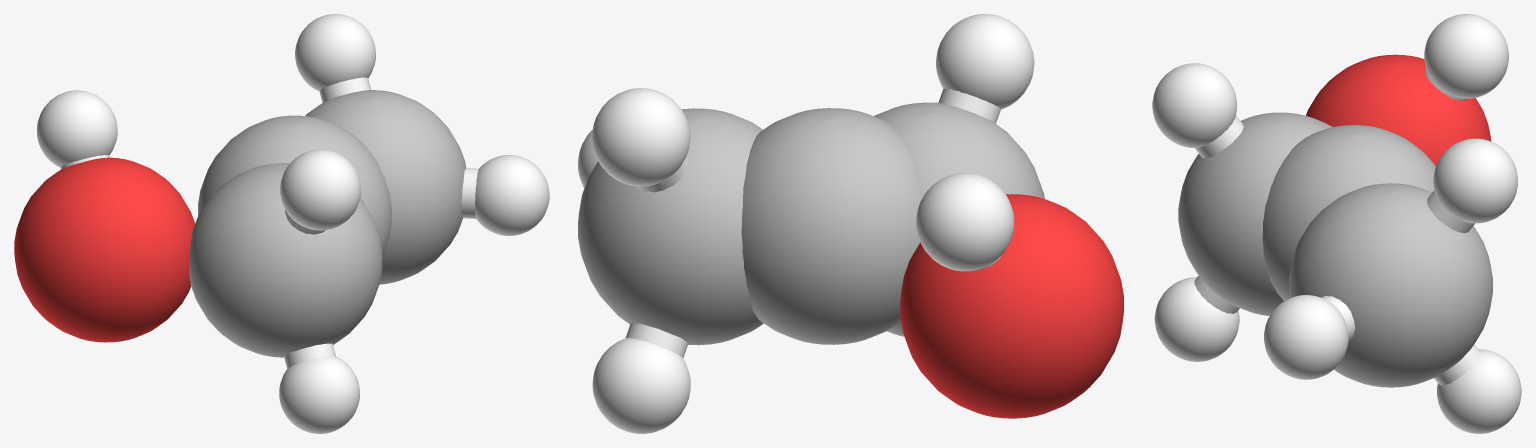
File: ethanol.fbx
3 views of the same model, side by side, from view 1: azimuth 30°, elevation 25°; view 2: azimuth 150°, elevation 25°; view 3: azimuth 270°, elevation 25° (orthographic). The views are drawn at different scales.
Parts seen in each view (by area): view 1: Oxygen_mesh|Oxygen_ball|Dupli|, Carbon_mesh|Carbon_ball|Dupli|, Carbon_mesh|Carbon_ball|Dupli|1, Carbon_ball, Hydrogen_mesh|Hydrogen_ball|Dupli|, Hydrogen_mesh|Hydrogen_ball|Dupli|1, Hydrogen_mesh|Hydrogen_ball|Dupli|2, Hydrogen_mesh|Hydrogen_ball|Dupli|5, Hydrogen_mesh|Hydrogen_ball|Dupli|4; view 2: Carbon_ball, Oxygen_mesh|Oxygen_ball|Dupli|, Carbon_mesh|Carbon_ball|Dupli|1, Carbon_mesh|Carbon_ball|Dupli|, Hydrogen_mesh|Hydrogen_ball|Dupli|5, Hydrogen_mesh|Hydrogen_ball|Dupli|4, Hydrogen_mesh|Hydrogen_ball|Dupli|3, Hydrogen_mesh|Hydrogen_ball|Dupli|, Hydrogen_mesh|Hydrogen_ball|Dupli|2, Hydrogen_sticks_mesh|Hydrogen_sticks_cylinder|Dupli|14; view 3: Carbon_mesh|Carbon_ball|Dupli|1, Carbon_mesh|Carbon_ball|Dupli|, Carbon_ball, Oxygen_mesh|Oxygen_ball|Dupli|, Hydrogen_mesh|Hydrogen_ball|Dupli|2, Hydrogen_mesh|Hydrogen_ball|Dupli|5, Hydrogen_mesh|Hydrogen_ball|Dupli|4, Hydrogen_mesh|Hydrogen_ball|Dupli|, Hydrogen_mesh|Hydrogen_ball|Dupli|3, Hydrogen_mesh|Hydrogen_ball|Dupli|1, Carbon_mesh|Carbon_ball|Dupli|0.1, Hydrogen_sticks_mesh|Hydrogen_sticks_cylinder|Dupli|14 (+1 smaller).
Part boxes in pixels (box(x1,y1,x2,y2)): Oxygen_mesh|Oxygen_ball|Dupli|: box(14, 157, 195, 342); Carbon_mesh|Carbon_ball|Dupli|: box(189, 163, 382, 357); Carbon_mesh|Carbon_ball|Dupli|1: box(305, 90, 466, 284); Carbon_ball: box(198, 115, 391, 255); Hydrogen_mesh|Hydrogen_ball|Dupli|: box(280, 149, 360, 230); Hydrogen_mesh|Hydrogen_ball|Dupli|1: box(279, 356, 359, 433); Hydrogen_mesh|Hydrogen_ball|Dupli|2: box(475, 155, 549, 235); Hydrogen_mesh|Hydrogen_ball|Dupli|5: box(37, 90, 117, 167); Hydrogen_mesh|Hydrogen_ball|Dupli|4: box(295, 14, 375, 91); Carbon_ball: box(741, 108, 921, 344); Oxygen_mesh|Oxygen_ball|Dupli|: box(900, 194, 1123, 418); Carbon_mesh|Carbon_ball|Dupli|1: box(578, 108, 763, 345); Carbon_mesh|Carbon_ball|Dupli|: box(874, 102, 1044, 336); Hydrogen_mesh|Hydrogen_ball|Dupli|5: box(916, 173, 1014, 271); Hydrogen_mesh|Hydrogen_ball|Dupli|4: box(592, 88, 690, 186); Hydrogen_mesh|Hydrogen_ball|Dupli|3: box(592, 338, 690, 433); Hydrogen_mesh|Hydrogen_ball|Dupli|: box(936, 14, 1034, 109); Hydrogen_mesh|Hydrogen_ball|Dupli|2: box(578, 130, 597, 188); Hydrogen_sticks_mesh|Hydrogen_sticks_cylinder|Dupli|14: box(939, 95, 998, 122); Carbon_mesh|Carbon_ball|Dupli|1: box(1289, 183, 1492, 387); Carbon_mesh|Carbon_ball|Dupli|: box(1178, 112, 1332, 315); Carbon_ball: box(1262, 125, 1435, 300); Oxygen_mesh|Oxygen_ball|Dupli|: box(1306, 54, 1491, 165); Hydrogen_mesh|Hydrogen_ball|Dupli|2: box(1264, 295, 1348, 379); Hydrogen_mesh|Hydrogen_ball|Dupli|5: box(1424, 14, 1508, 98); Hydrogen_mesh|Hydrogen_ball|Dupli|4: box(1433, 138, 1517, 223); Hydrogen_mesh|Hydrogen_ball|Dupli|: box(1152, 63, 1236, 147); Hydrogen_mesh|Hydrogen_ball|Dupli|3: box(1437, 349, 1521, 433); Hydrogen_mesh|Hydrogen_ball|Dupli|1: box(1154, 277, 1239, 361); Carbon_mesh|Carbon_ball|Dupli|0.1: box(1296, 187, 1484, 386); Hydrogen_sticks_mesh|Hydrogen_sticks_cylinder|Dupli|14: box(1197, 119, 1242, 157).
Size of the model in its own units: 432 by 242 by 278.
